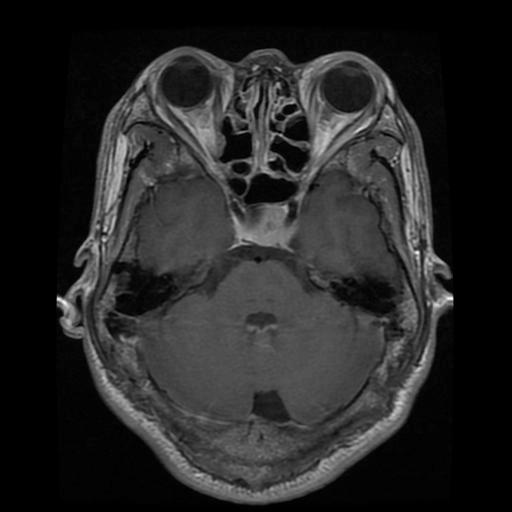Tumour-Pituitary: (225, 197, 304, 256)
